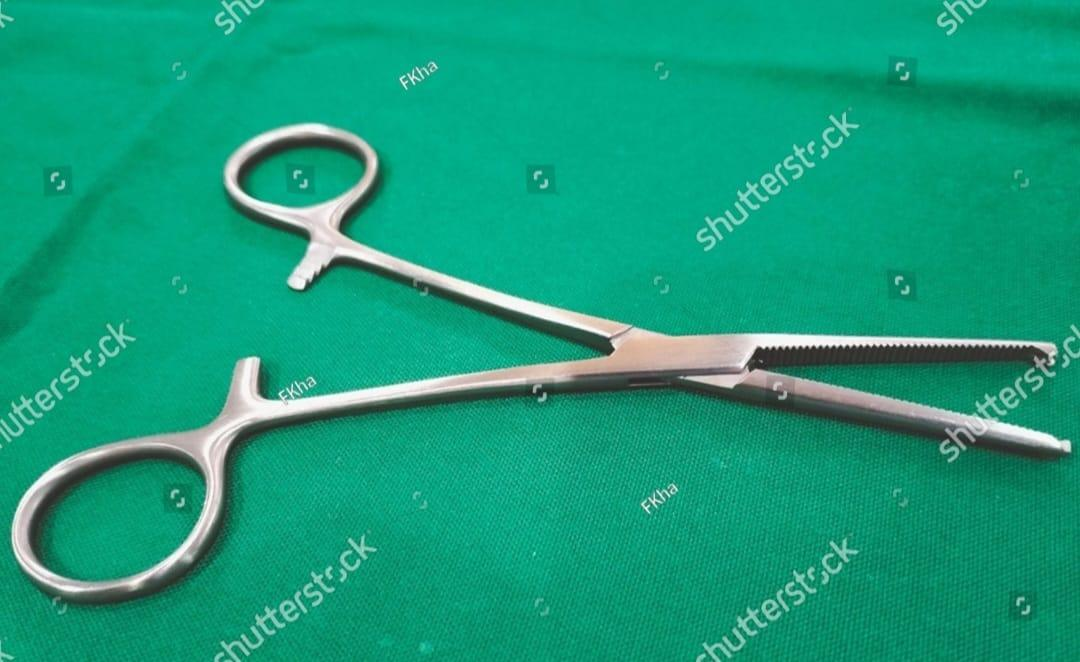Kocher Forceps: (5, 118, 1075, 610)
